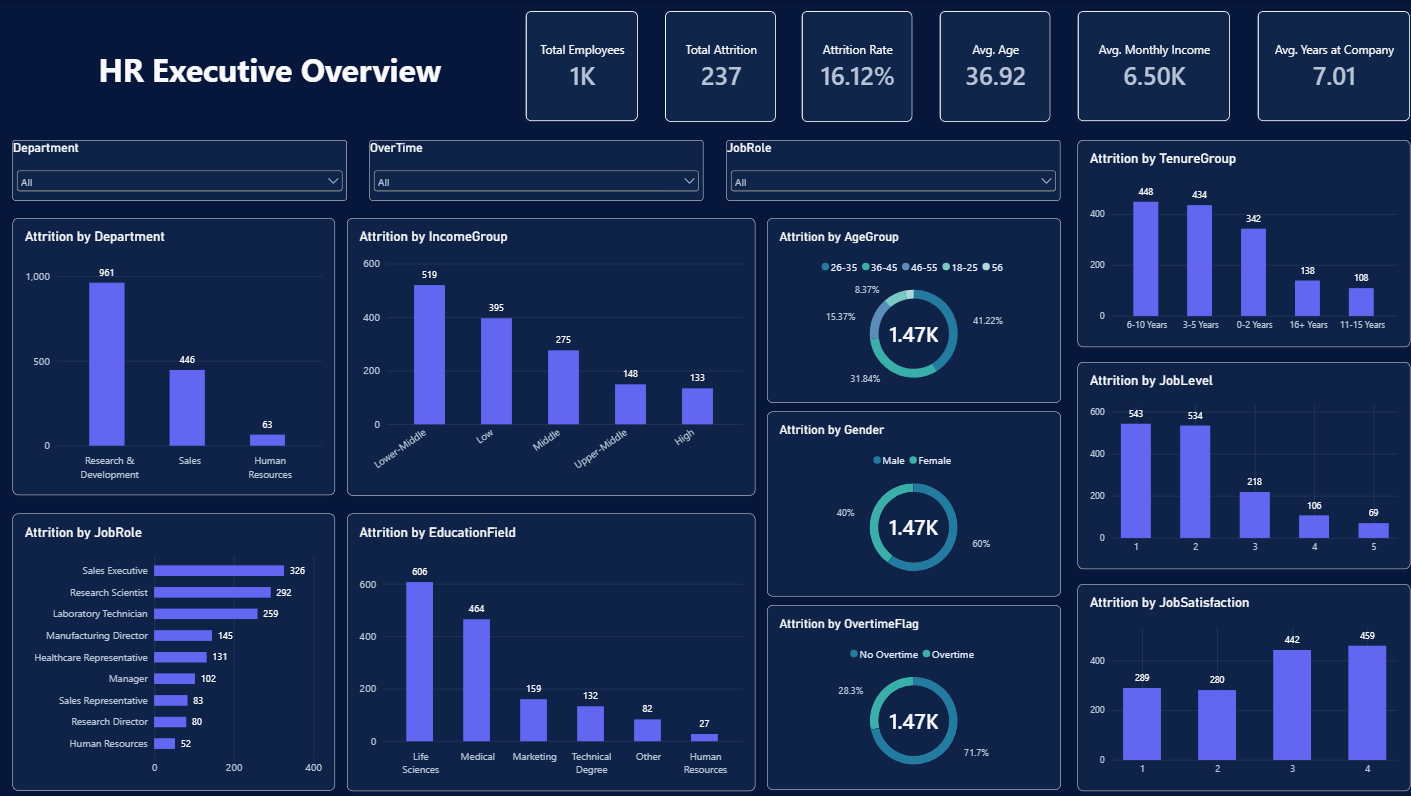

The page's visual inventory and layout, read from the dashboard file:
{"tool":"powerbi","page":{"name":"HR Executive Overview","canvas":[1920,1080],"ordinal":0},"visuals":[{"type":"cardVisual","fields":{"Data":["HR-Employee-Attrition.Total Employees"]},"box":[710.9,16,152.2,149.9],"z":0},{"type":"cardVisual","fields":{"Data":["HR-Employee-Attrition.Total Attrition"]},"box":[899.4,15.9,150,150],"z":1000},{"type":"cardVisual","fields":{"Data":["HR-Employee-Attrition.Attrition Rate %"]},"box":[1085.7,15.9,150,150],"z":2000},{"type":"cardVisual","fields":{"Data":["HR-Employee-Attrition.Average Age"]},"box":[1272,15.9,150,150],"z":3000},{"type":"cardVisual","fields":{"Data":["HR-Employee-Attrition.Average Monthly Income"]},"box":[1458.2,16,206.7,149.9],"z":4000},{"type":"cardVisual","fields":{"Data":["HR-Employee-Attrition.Average Years at Company"]},"box":[1701.2,16,206.7,149.9],"z":5000},{"type":"clusteredColumnChart","title":"Attrition by Department","fields":{"Category":["HR-Employee-Attrition.Department"],"Y":["CountNonNull(HR-Employee-Attrition.Attrition)"]},"box":[18.2,295.3,436.1,374.8],"z":6000},{"type":"clusteredBarChart","title":"Attrition by JobRole","fields":{"Category":["HR-Employee-Attrition.JobRole"],"Y":["CountNonNull(HR-Employee-Attrition.Attrition)"]},"box":[18.2,695,436.1,374.8],"z":7000},{"type":"donutChart","title":"Attrition by AgeGroup","fields":{"Category":["HR-Employee-Attrition.AgeGroup"],"Y":["CountNonNull(HR-Employee-Attrition.Attrition)"]},"box":[1038,295.3,397.5,250],"z":8000},{"type":"donutChart","title":"Attrition by OvertimeFlag","fields":{"Category":["HR-Employee-Attrition.OvertimeFlag"],"Y":["CountNonNull(HR-Employee-Attrition.Attrition)"]},"box":[1038,819.9,397.5,250],"z":9000},{"type":"columnChart","title":"Attrition by IncomeGroup","fields":{"Category":["HR-Employee-Attrition.IncomeGroup"],"Y":["CountNonNull(HR-Employee-Attrition.Attrition)"]},"box":[470.2,295.3,551.9,375],"z":10000},{"type":"clusteredColumnChart","title":"Attrition by EducationField","fields":{"Category":["HR-Employee-Attrition.EducationField"],"Y":["CountNonNull(HR-Employee-Attrition.Attrition)"]},"box":[470.2,695,551.9,375],"z":11000},{"type":"donutChart","title":"Attrition by Gender","fields":{"Category":["HR-Employee-Attrition.Gender"],"Y":["CountNonNull(HR-Employee-Attrition.Attrition)"]},"box":[1038,557.6,397,250],"z":12000},{"type":"clusteredColumnChart","title":"Attrition by JobLevel","fields":{"Category":["HR-Employee-Attrition.JobLevel"],"Y":["CountNonNull(HR-Employee-Attrition.Attrition)"]},"box":[1458.2,490.6,449.7,280],"z":13000},{"type":"columnChart","title":"Attrition by TenureGroup","fields":{"Category":["HR-Employee-Attrition.TenureGroup"],"Y":["CountNonNull(HR-Employee-Attrition.Attrition)"]},"box":[1458.2,190.8,449.7,280],"z":14000},{"type":"clusteredColumnChart","title":"Attrition by JobSatisfaction","fields":{"Category":["HR-Employee-Attrition.JobSatisfaction"],"Y":["CountNonNull(HR-Employee-Attrition.Attrition)"]},"box":[1458.2,790.4,449.7,280],"z":15000},{"type":"slicer","title":"Department","fields":{"Values":["HR-Employee-Attrition.Department"]},"box":[18.2,190.8,452,81.8],"z":16000},{"type":"slicer","title":"JobRole","fields":{"Values":["HR-Employee-Attrition.JobRole"]},"box":[983.5,190.8,451,81.8],"z":17000},{"type":"slicer","title":"OverTime","fields":{"Values":["HR-Employee-Attrition.OverTime"]},"box":[501.3,190.8,451,81.8],"z":18000},{"type":"textbox","box":[18.2,15.9,672.3,149.9],"z":18001}]}

Visuals, with their boxes in screenshot pixels (x1, y1, x2, y2), scaled from the page's 1920x1080 canvas onto the 1411x796 screenshot:
cardVisual - HR-Employee-Attrition.Total Employees: (522, 12, 634, 122)
cardVisual - HR-Employee-Attrition.Total Attrition: (661, 12, 771, 122)
cardVisual - HR-Employee-Attrition.Attrition Rate %: (798, 12, 908, 122)
cardVisual - HR-Employee-Attrition.Average Age: (935, 12, 1045, 122)
cardVisual - HR-Employee-Attrition.Average Monthly Income: (1072, 12, 1224, 122)
cardVisual - HR-Employee-Attrition.Average Years at Company: (1250, 12, 1402, 122)
"Attrition by Department" clusteredColumnChart: (13, 218, 334, 494)
"Attrition by JobRole" clusteredBarChart: (13, 512, 334, 788)
"Attrition by AgeGroup" donutChart: (763, 218, 1055, 402)
"Attrition by OvertimeFlag" donutChart: (763, 604, 1055, 789)
"Attrition by IncomeGroup" columnChart: (346, 218, 751, 494)
"Attrition by EducationField" clusteredColumnChart: (346, 512, 751, 789)
"Attrition by Gender" donutChart: (763, 411, 1055, 595)
"Attrition by JobLevel" clusteredColumnChart: (1072, 362, 1402, 568)
"Attrition by TenureGroup" columnChart: (1072, 141, 1402, 347)
"Attrition by JobSatisfaction" clusteredColumnChart: (1072, 583, 1402, 789)
"Department" slicer: (13, 141, 346, 201)
"JobRole" slicer: (723, 141, 1054, 201)
"OverTime" slicer: (368, 141, 700, 201)
textbox: (13, 12, 507, 122)
